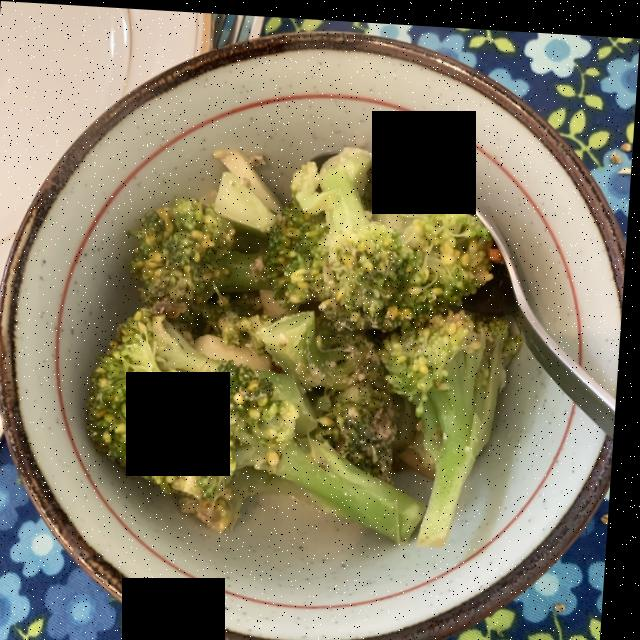broccoli: (102, 149, 509, 533)
